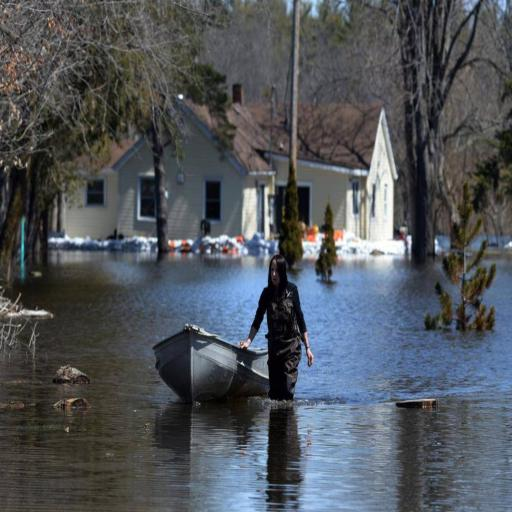human: (238, 247, 338, 411)
